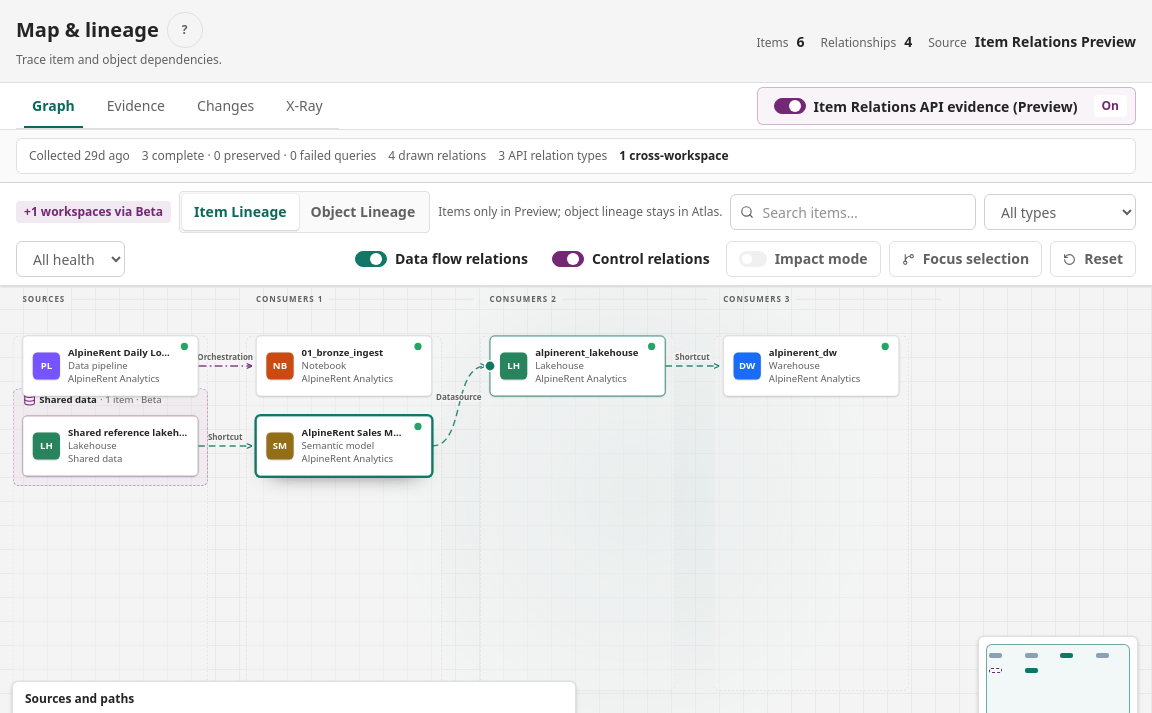
Test: Map & lineage unified evidence › lists every relationship by source on the Evidence tab
This screenshot has width=1152, height=713.
Check: the text "4 drawn relations" is shown, box [388,147,486,165]
Press the mouse on the tab "Evidence": (136, 106) [91,84,181,128]
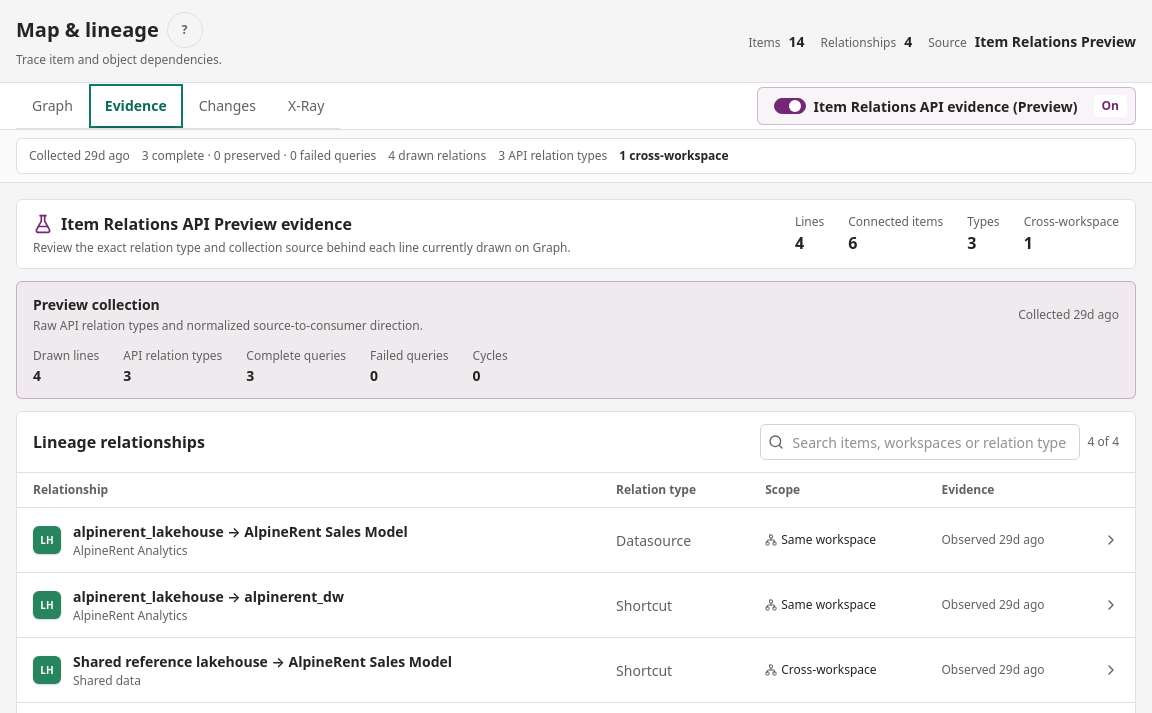
Check: the column headings read "Relationship", "Relation type", "Scope", "Evidence", "Open", in this order, box [17,473,604,508]; [604,473,753,508]; [753,473,930,508]; [929,473,1095,508]; [1095,473,1135,508]
Check: the number of buttons is 4
Click the button that starts with "alpinerent_lakehouse": (311, 540) [33,518,588,562]
(page scrolled)
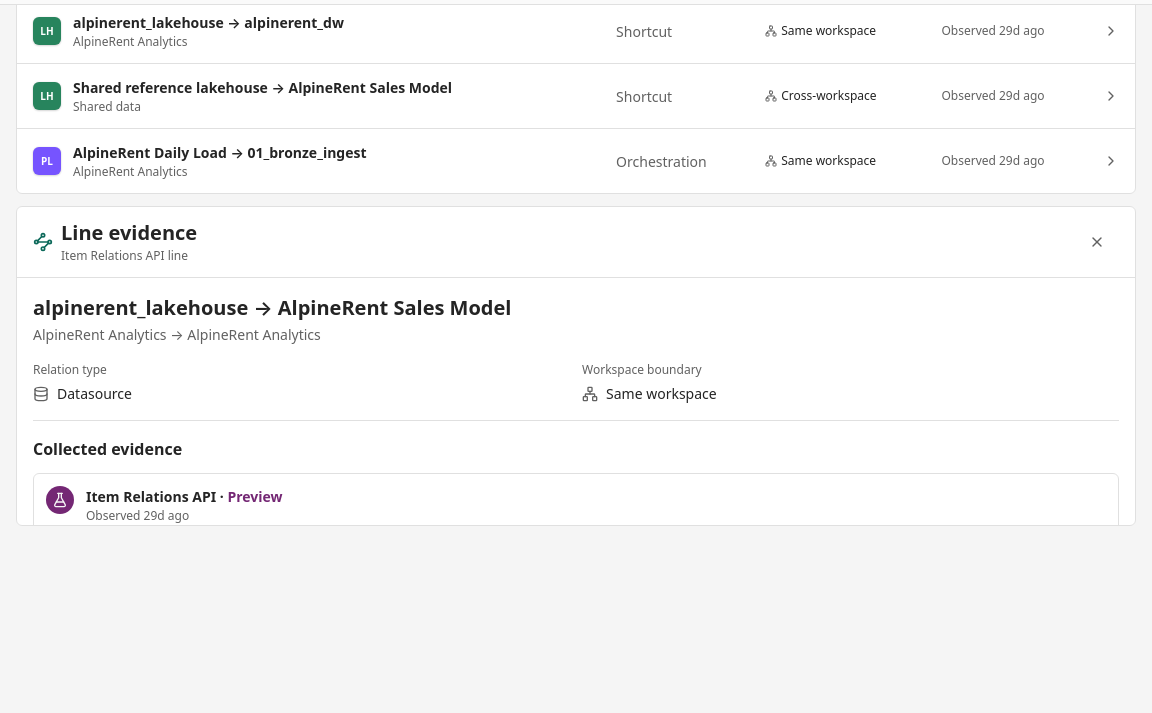
Check: the element "Line evidence" shows "Item Relations API · Preview", box [17,207,1135,525]
